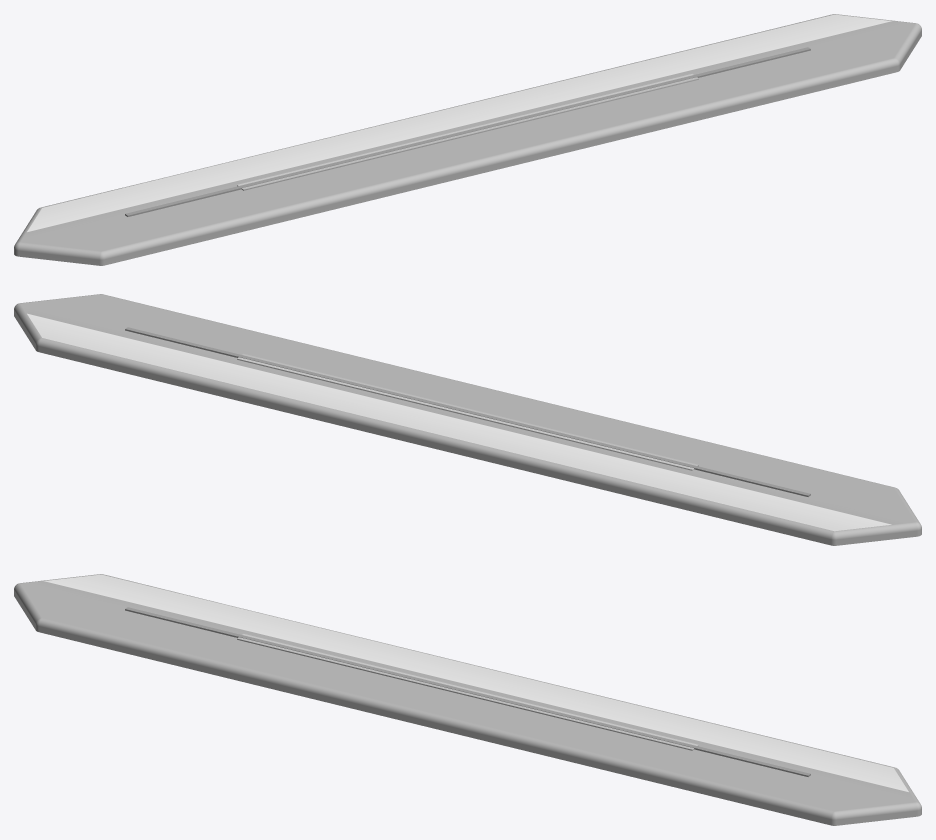
Rendered from Tapnote.glb.
3 renders of one model, top to bottom at view 1: azimuth 30°, elevation 25°; view 2: azimuth 150°, elevation 25°; view 3: azimuth 330°, elevation 25°, orthographic.
Visible parts, largest first — view 1: NoteBase, Line; view 2: NoteBase, Line; view 3: NoteBase, Line.
Boxes of the visible parts, x1=… form: NoteBase: x1=14, y1=14, x2=921, y2=265; Line: x1=125, y1=47, x2=810, y2=216; NoteBase: x1=14, y1=294, x2=921, y2=545; Line: x1=125, y1=327, x2=810, y2=496; NoteBase: x1=14, y1=574, x2=921, y2=825; Line: x1=125, y1=607, x2=810, y2=776.
Bounding box in the file's own units: 3.98 × 0.0562 × 0.5.
Materials: 2 (1 with a texture image).
